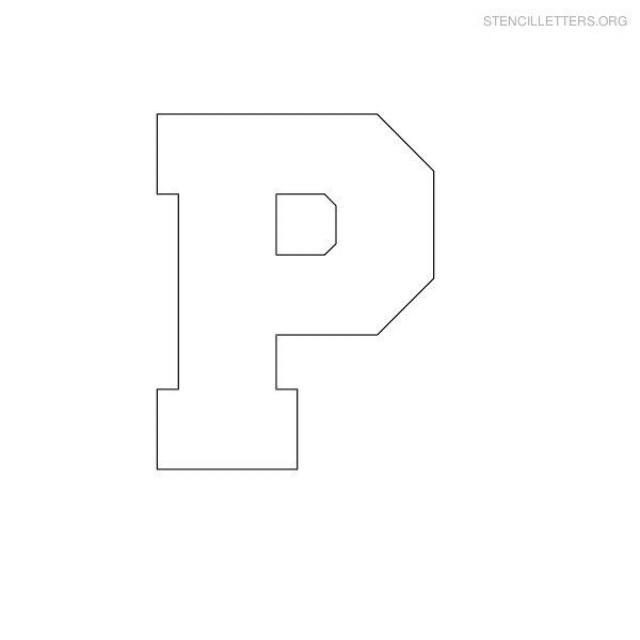P: (92, 59, 552, 560)
